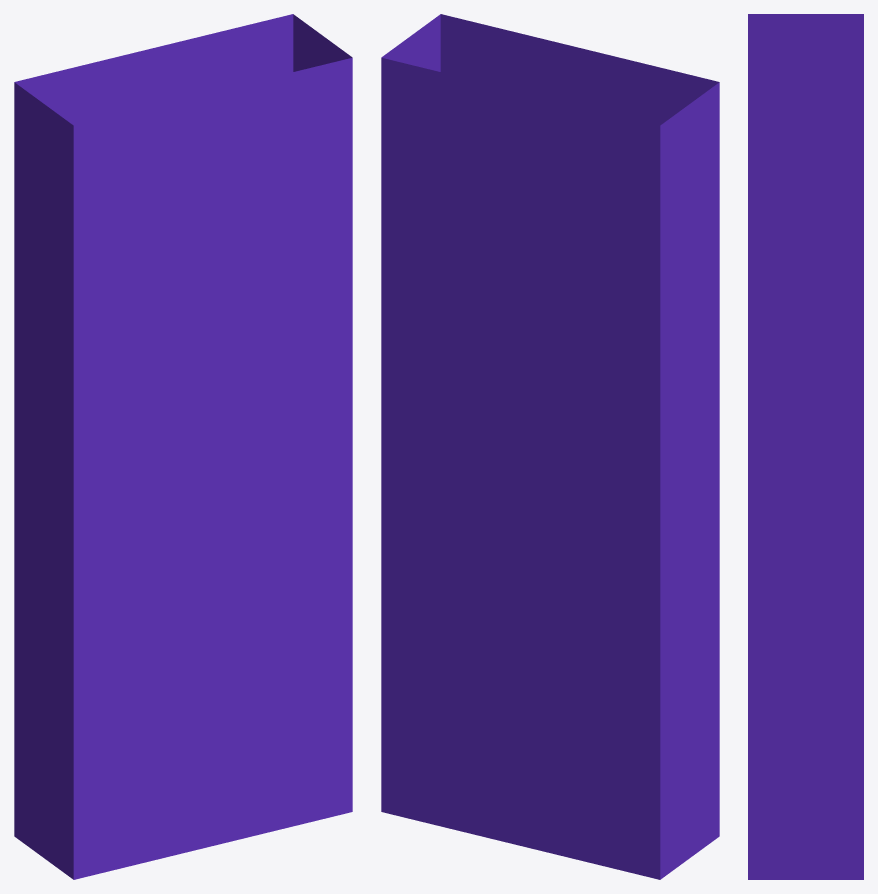
The model's file is magazine_03.fbx.
The picture shows the model from 3 angles, left to right: view 1: azimuth 30°, elevation 25°; view 2: azimuth 150°, elevation 25°; view 3: azimuth 270°, elevation 25°; orthographic projection. The views are drawn at different scales.
Parts seen in each view (by area): view 1: clip_1.001; view 2: clip_1.001; view 3: clip_1.001.
Boxes of the visible parts, box(x1,y1,x2,y2) form: clip_1.001: box(14, 14, 352, 879); clip_1.001: box(381, 14, 719, 879); clip_1.001: box(748, 14, 863, 879).
Bounding box in the file's own units: 244 × 629 × 90.11.
